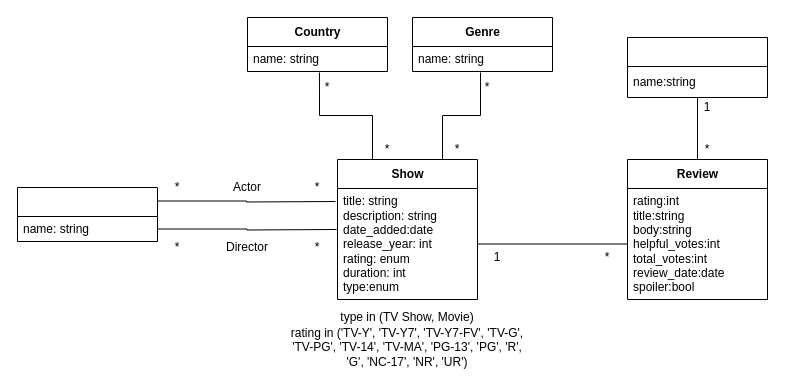
Image size: 785x386. Some labels were removed from this diagram. The shapes that lost their labels are listed below. From the top down, each one's box as (x1, y1, x2, y2) in pixels, then its label:
(626, 36, 768, 98): Reviewer
(16, 186, 158, 242): Person
